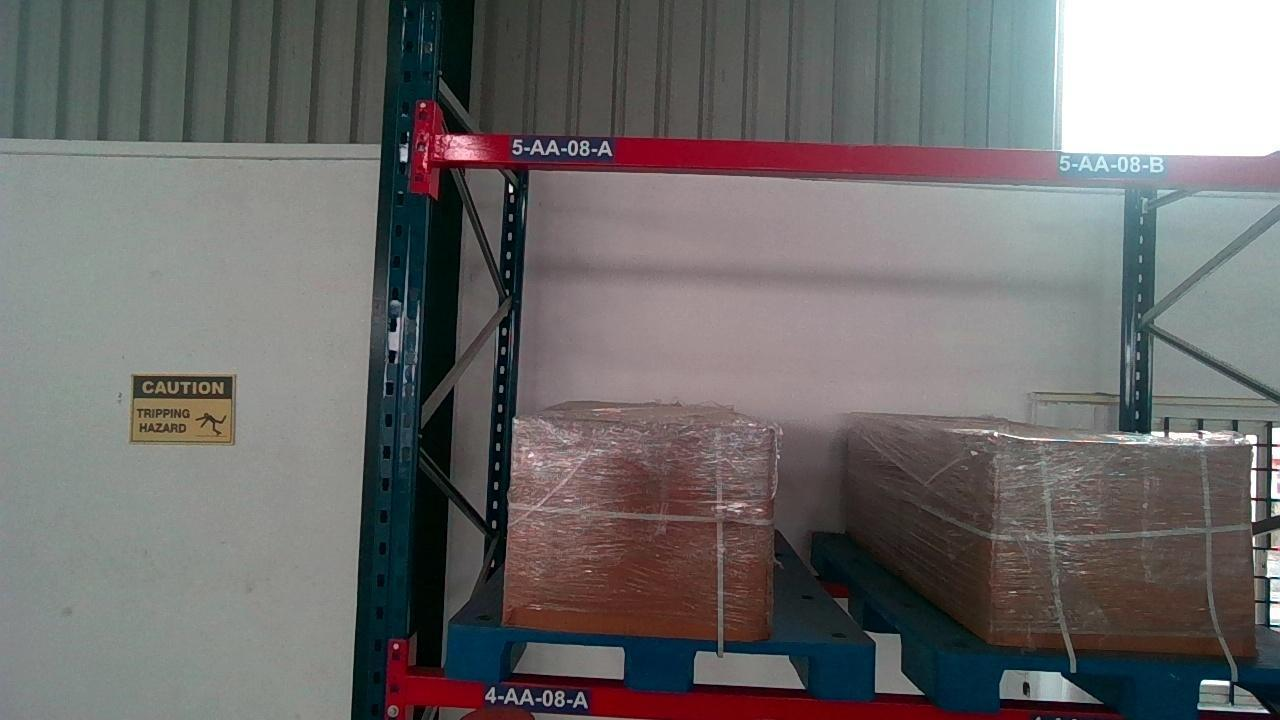h_rack: (433, 134, 1266, 181), (392, 679, 874, 715)
small_pallet: (444, 632, 873, 689), (954, 659, 1280, 720)
